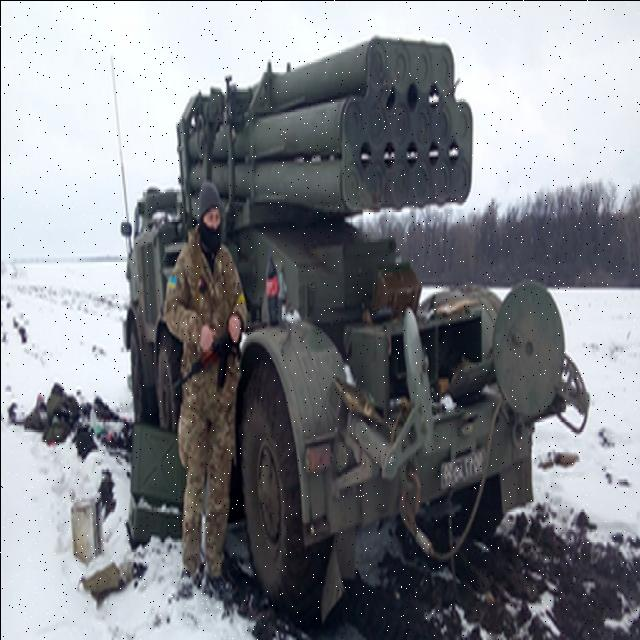MLRS: (110, 18, 576, 618)
